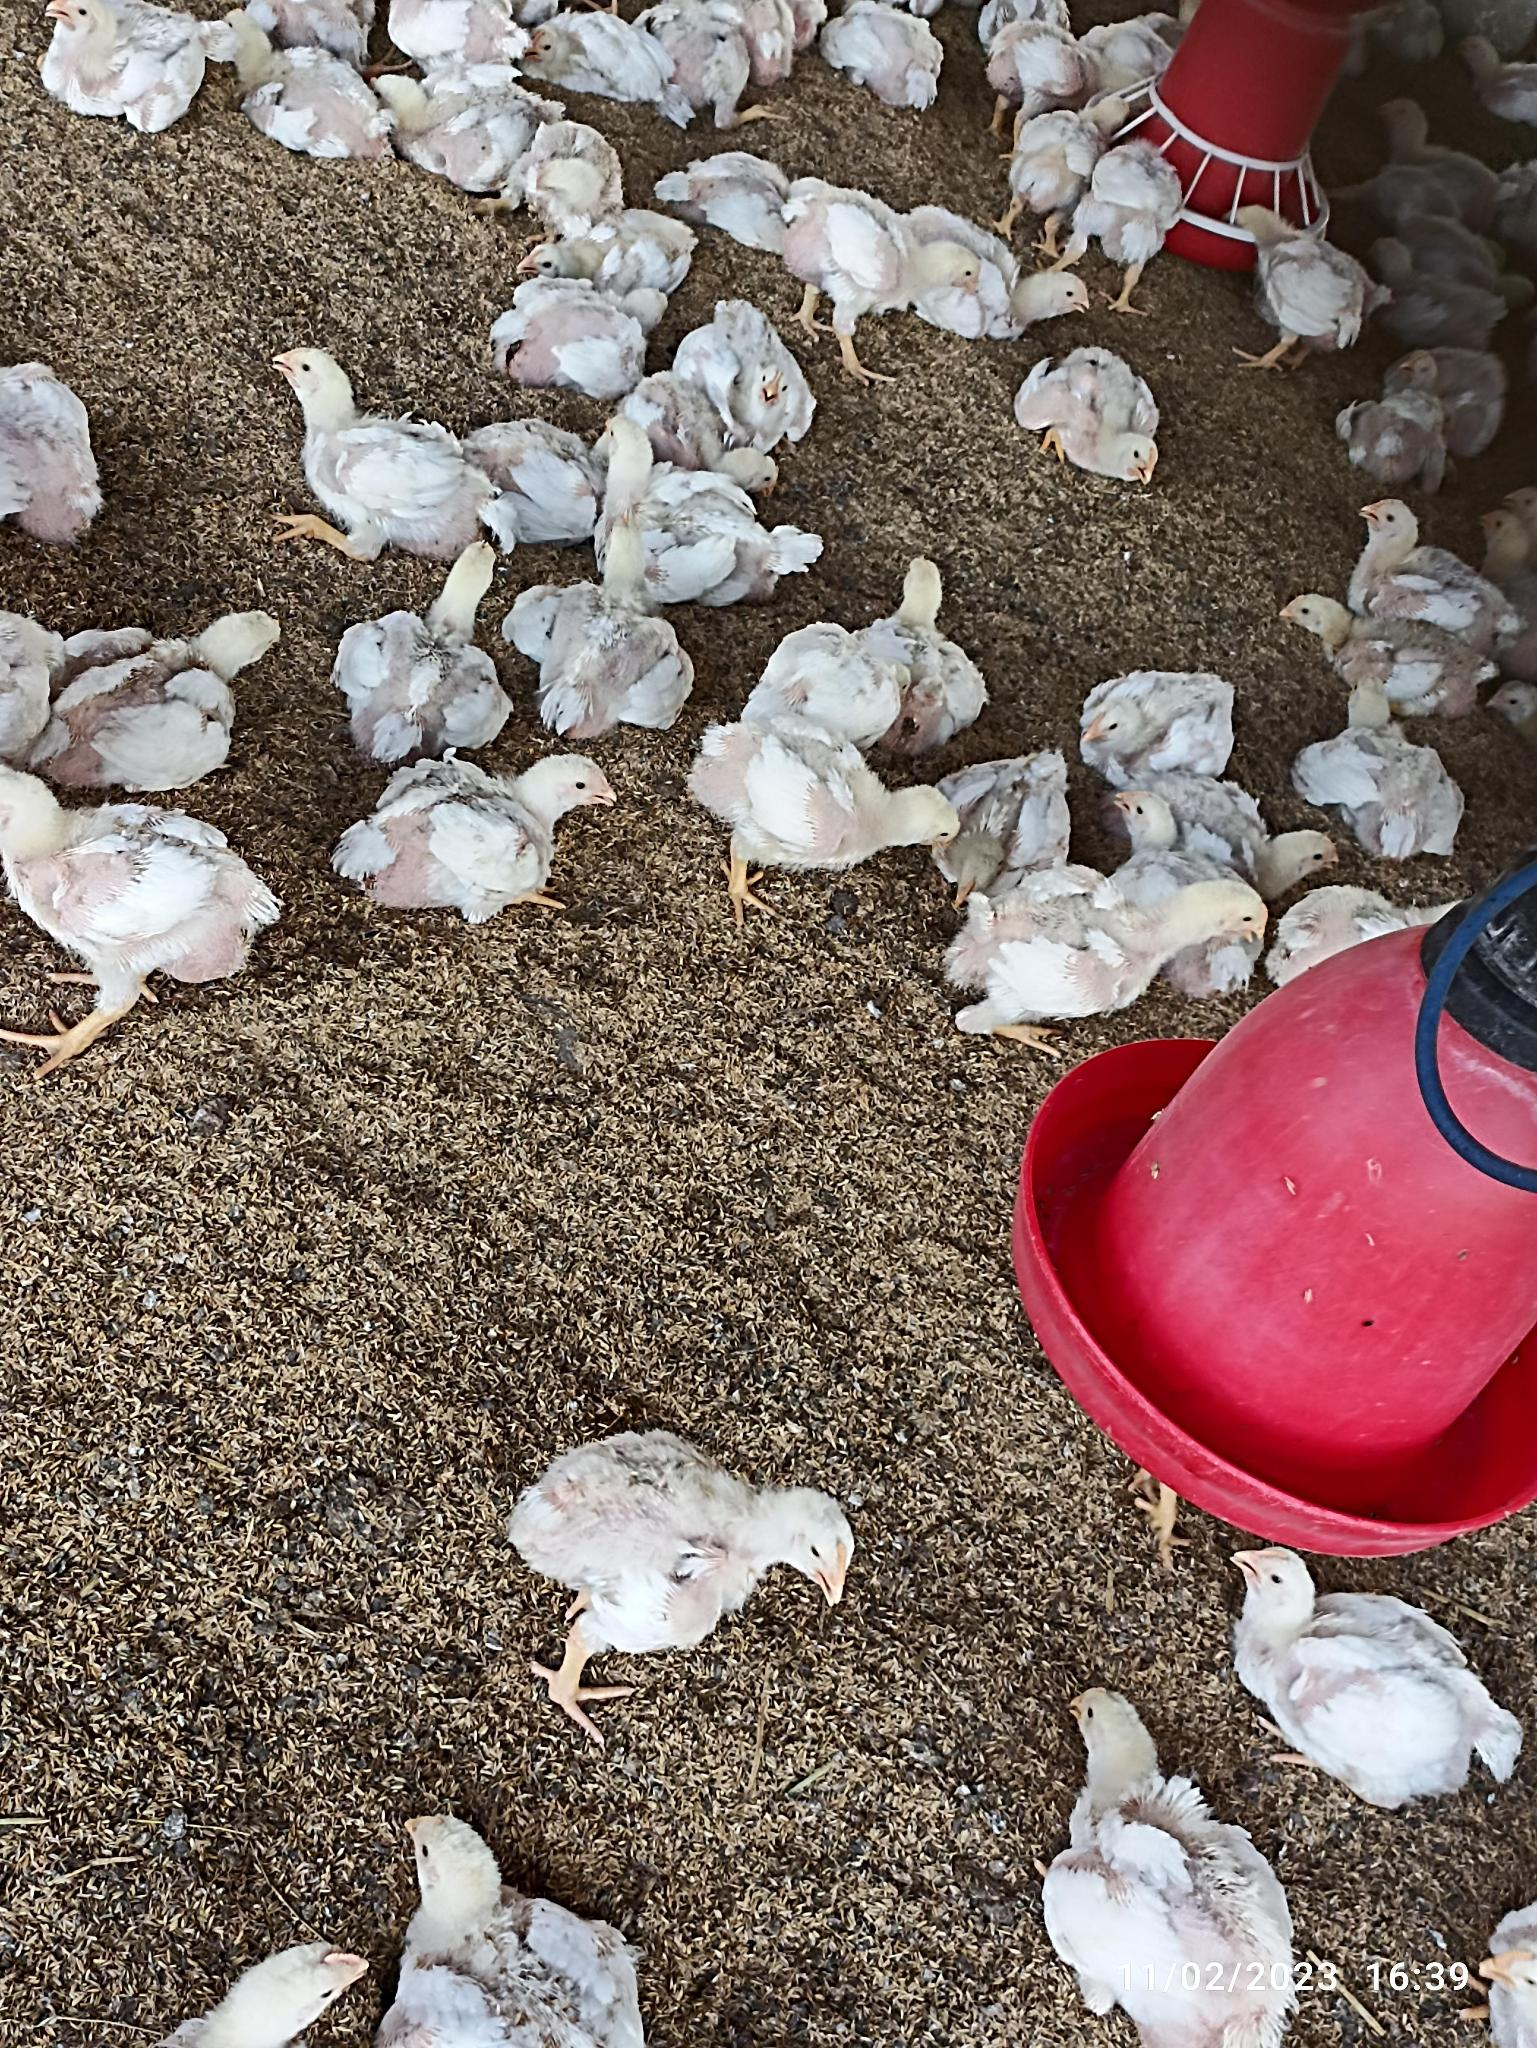Pollos: (1030, 1683, 1305, 2048), (1229, 1536, 1535, 1804), (525, 1423, 862, 1633), (378, 1803, 655, 2048), (2, 775, 283, 978), (965, 862, 1271, 1046), (250, 344, 504, 557), (344, 741, 625, 925), (47, 607, 294, 791), (697, 713, 962, 884), (593, 412, 819, 586), (350, 554, 534, 757), (759, 182, 977, 329), (1274, 591, 1489, 726), (840, 554, 1003, 713), (1012, 345, 1183, 489), (42, 2, 211, 127), (1070, 663, 1240, 773)
